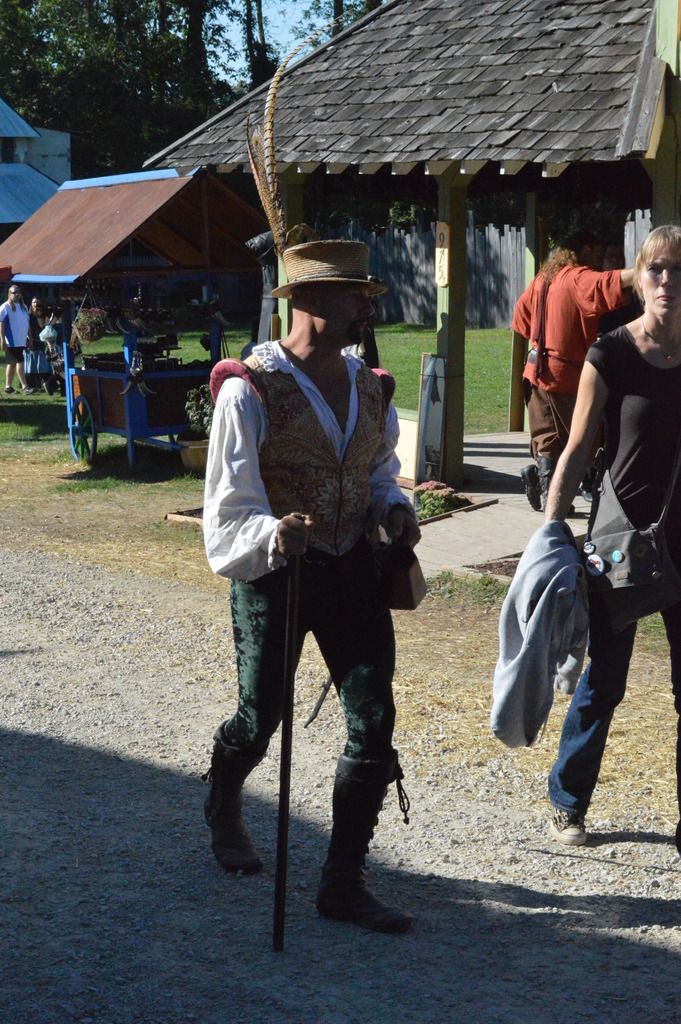Footwear: (318, 755, 417, 936), (203, 727, 263, 872), (554, 813, 588, 846)
